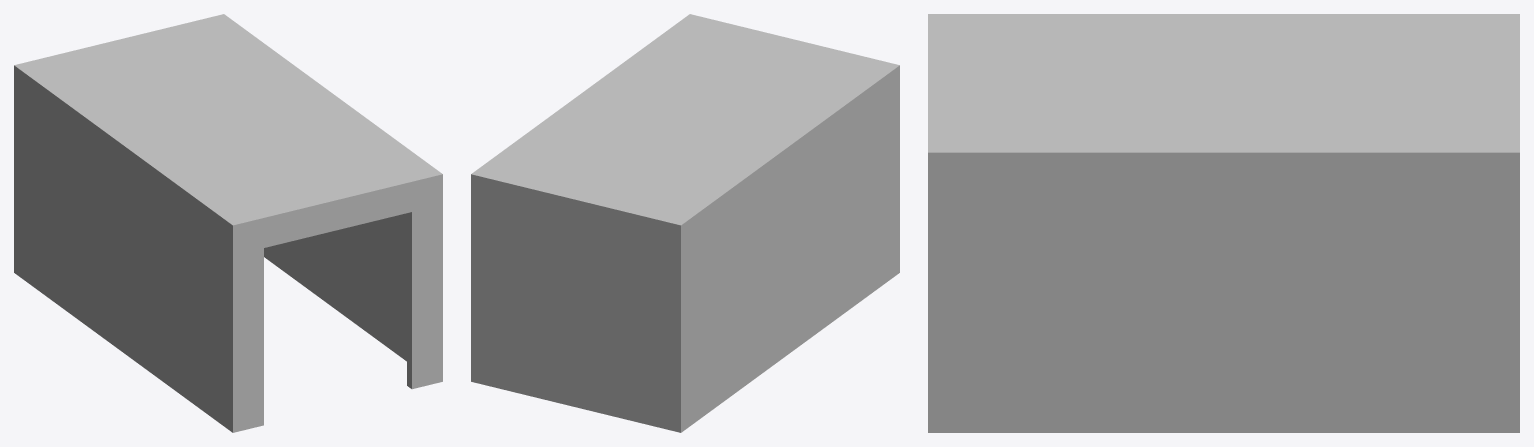
The model's file is barn-mid.glb.
3 views of the same model, side by side, from view 1: azimuth 30°, elevation 25°; view 2: azimuth 150°, elevation 25°; view 3: azimuth 270°, elevation 25° (orthographic). The views are drawn at different scales.
Parts seen in each view (by area): view 1: Cube035; view 2: Cube035; view 3: Cube035.
Part boxes in pixels (x1,y1,x2,y2): Cube035: (14,14,442,432); Cube035: (471,14,899,432); Cube035: (928,14,1519,432).
Size of the model in its own units: 354 by 334 by 639.
Materials: 1 (1 with a texture image).
